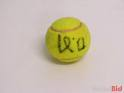tennis ball: (44, 16, 92, 63)
